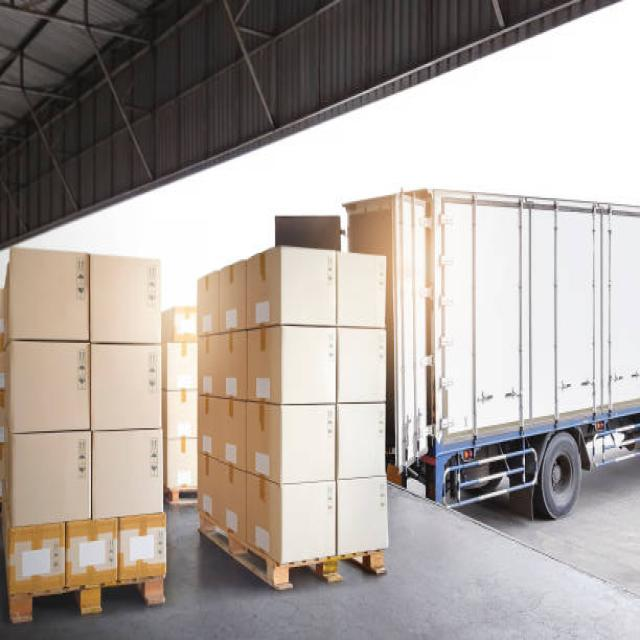Wooden-Pallets: (184, 509, 392, 600), (201, 509, 209, 512)
